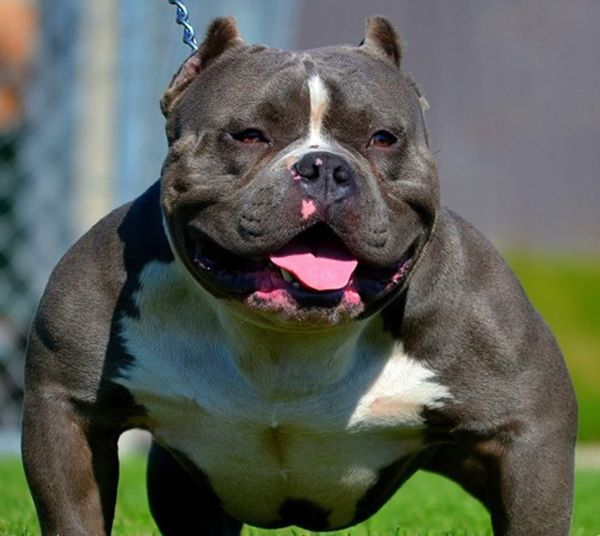dog: (20, 16, 581, 536)
